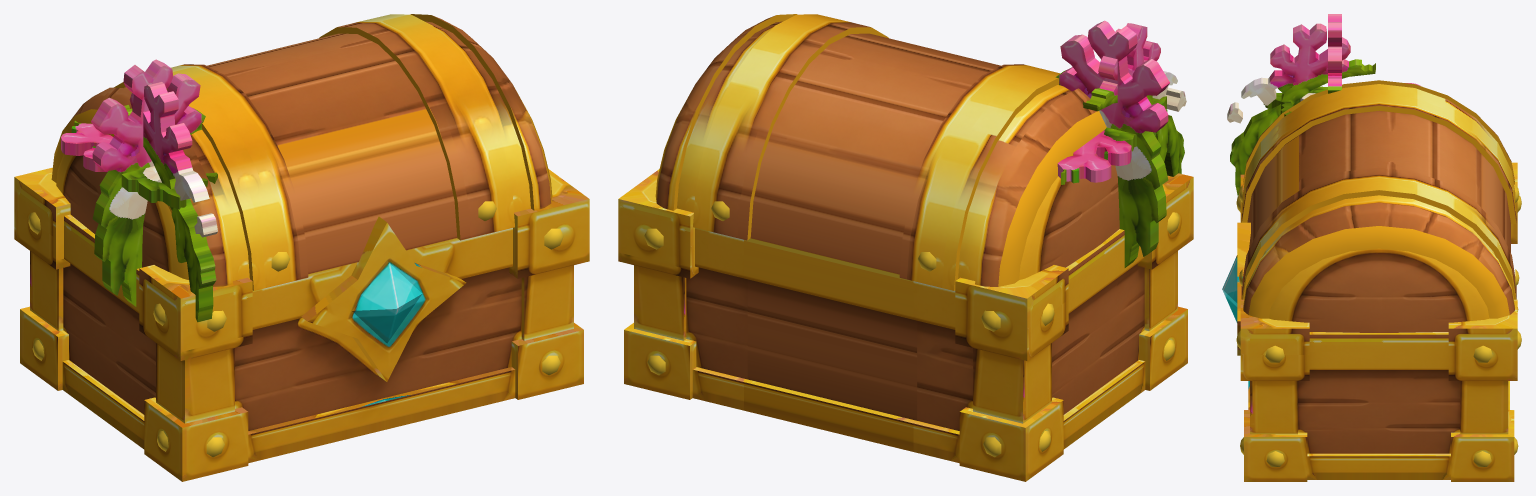
File: MB_Chest_v1.fbx
3 renders of one model, left to right at view 1: azimuth 30°, elevation 25°; view 2: azimuth 150°, elevation 25°; view 3: azimuth 270°, elevation 25°, orthographic. The views are drawn at different scales.
Parts seen in each view (by area): view 1: Body, Lid; view 2: Lid, Body; view 3: Lid, Body.
Boxes of the visible parts, box(x1,y1,x2,y2) form: Body: box(14, 167, 589, 481); Lid: box(51, 14, 552, 322); Lid: box(655, 14, 1186, 290); Body: box(618, 169, 1193, 481); Lid: box(1227, 14, 1519, 332); Body: box(1222, 162, 1521, 481).
Bounding box in the file's own units: 1541 × 1237 × 1086.
Materials: 1 (1 with a texture image).
